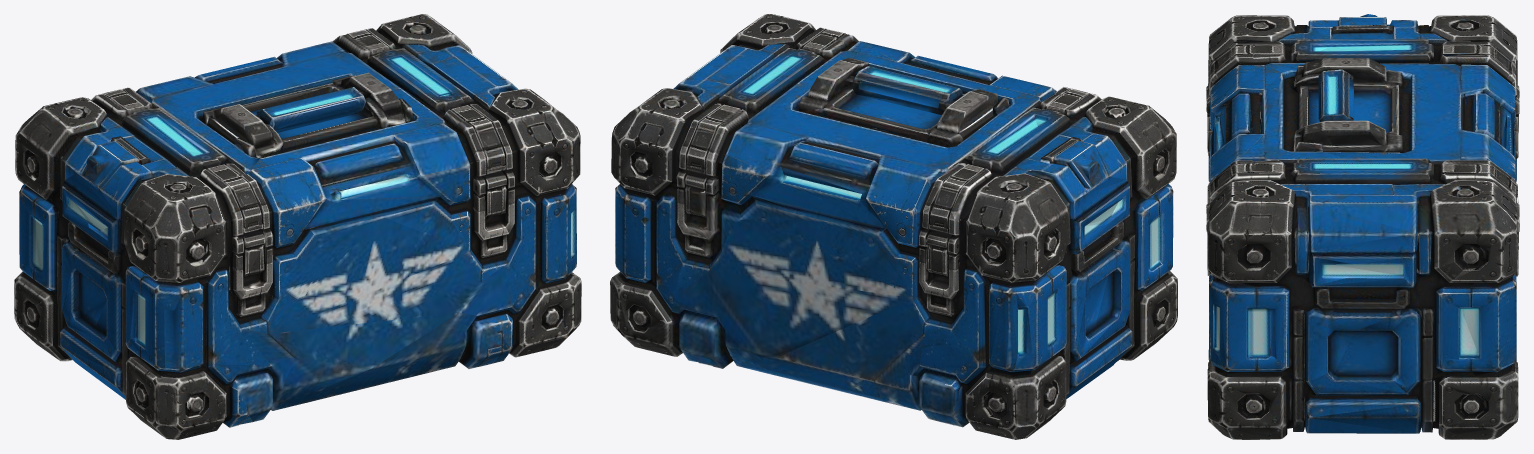
The model's file is dropcrate.glb.
3 renders of one model, left to right at view 1: azimuth 30°, elevation 25°; view 2: azimuth 150°, elevation 25°; view 3: azimuth 270°, elevation 25°, orthographic.
Visible parts, largest first — view 1: Mesh_0; view 2: Mesh_0; view 3: Mesh_0.
Boxes of the visible parts, box(x1,y1,x2,y2) form: Mesh_0: box(14, 14, 581, 439); Mesh_0: box(610, 14, 1177, 439); Mesh_0: box(1206, 14, 1519, 439).
Size of the model in its own units: 1.9 by 1.08 by 1.21.
1 material, 1 textured.
